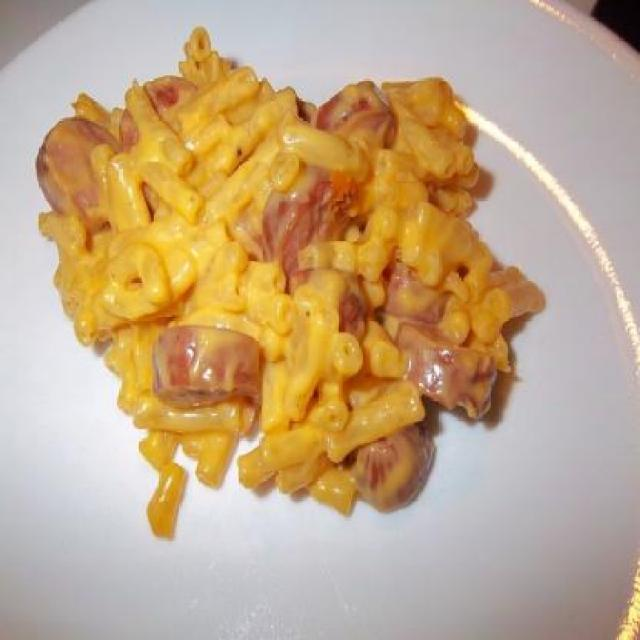hot dog: (348, 247, 484, 518), (256, 64, 384, 278), (35, 63, 188, 226), (148, 322, 260, 416)
macaroni and cheese: (39, 24, 538, 536)
